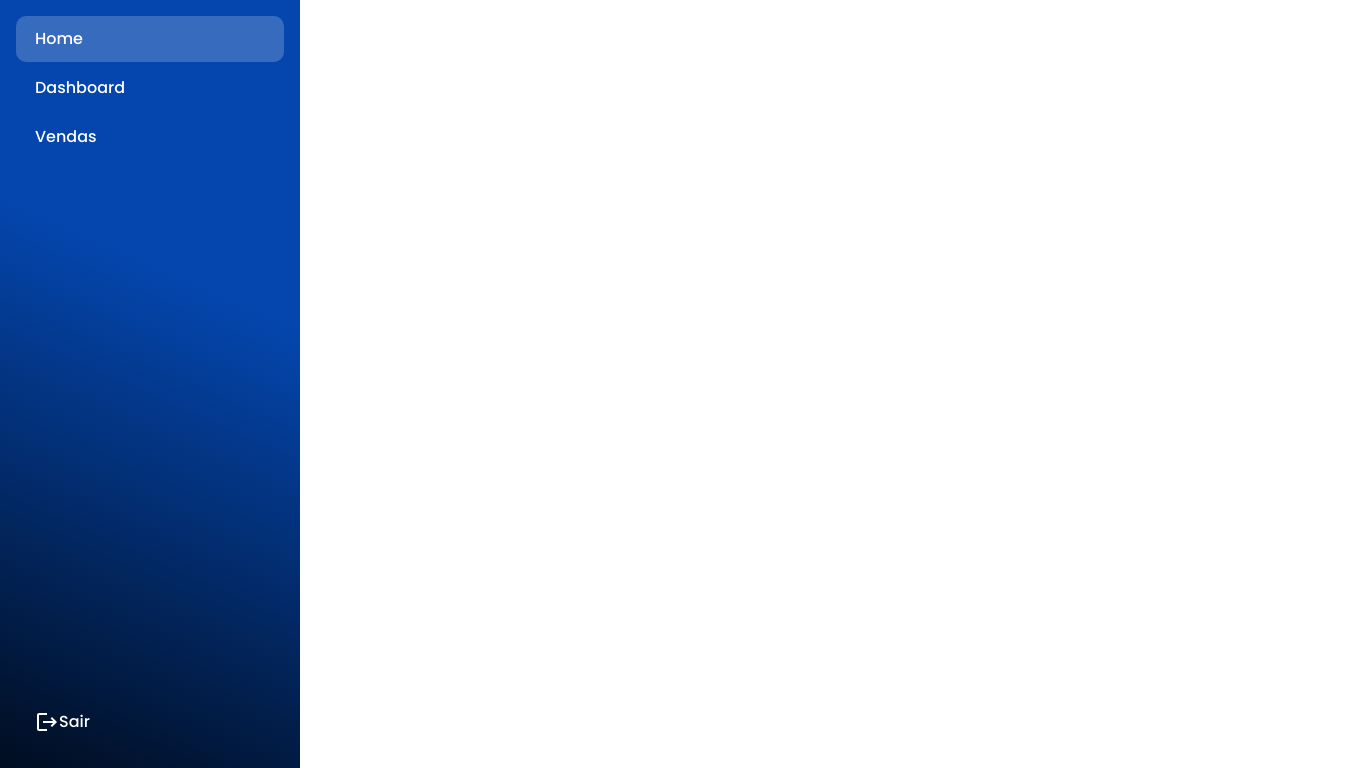
Test: SideBar module › should be render "Cancel" on open modal
Click the text "Sair".
click(62, 722)  # box [35,710,90,734]
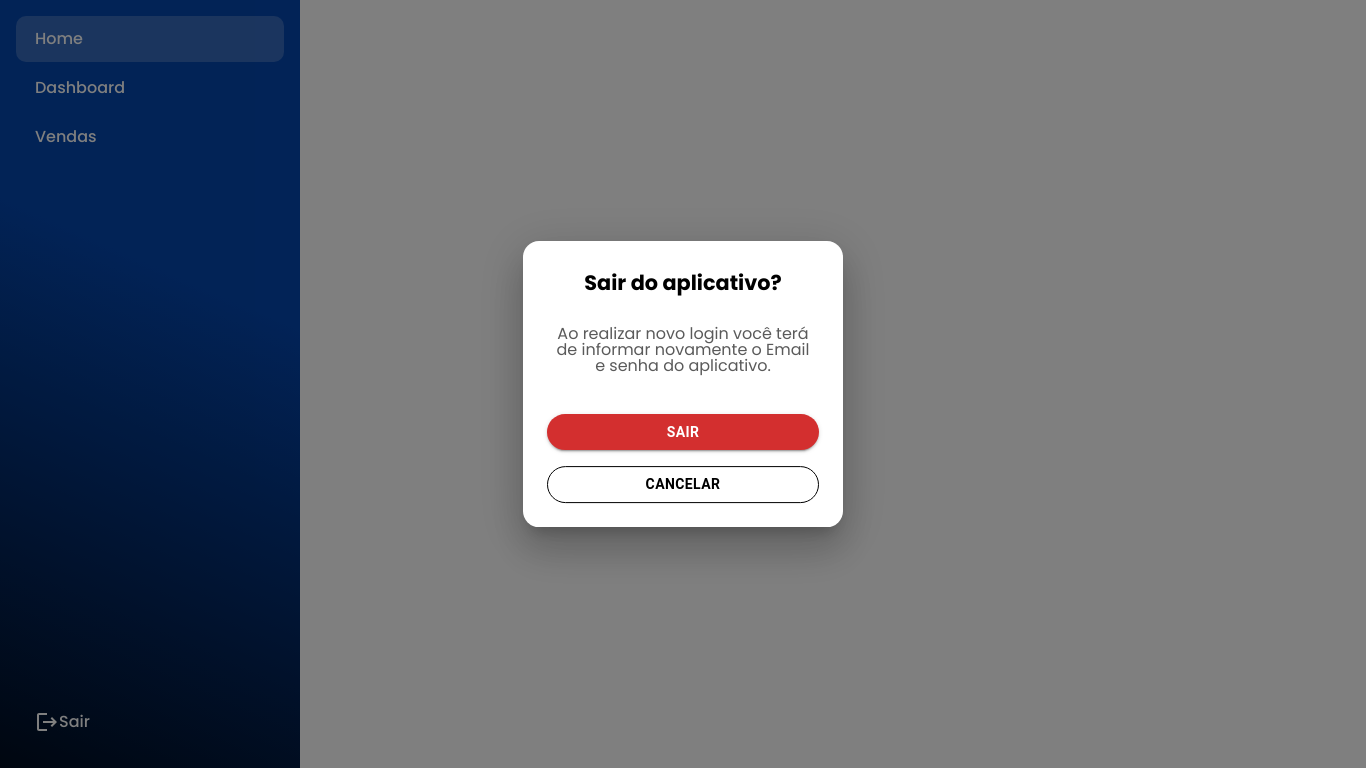
Expected: the heading "Sair do aplicativo?" is shown, [584,265,782,302]
Click the button "Cancelar".
click(683, 485)  # box [547,466,819,503]
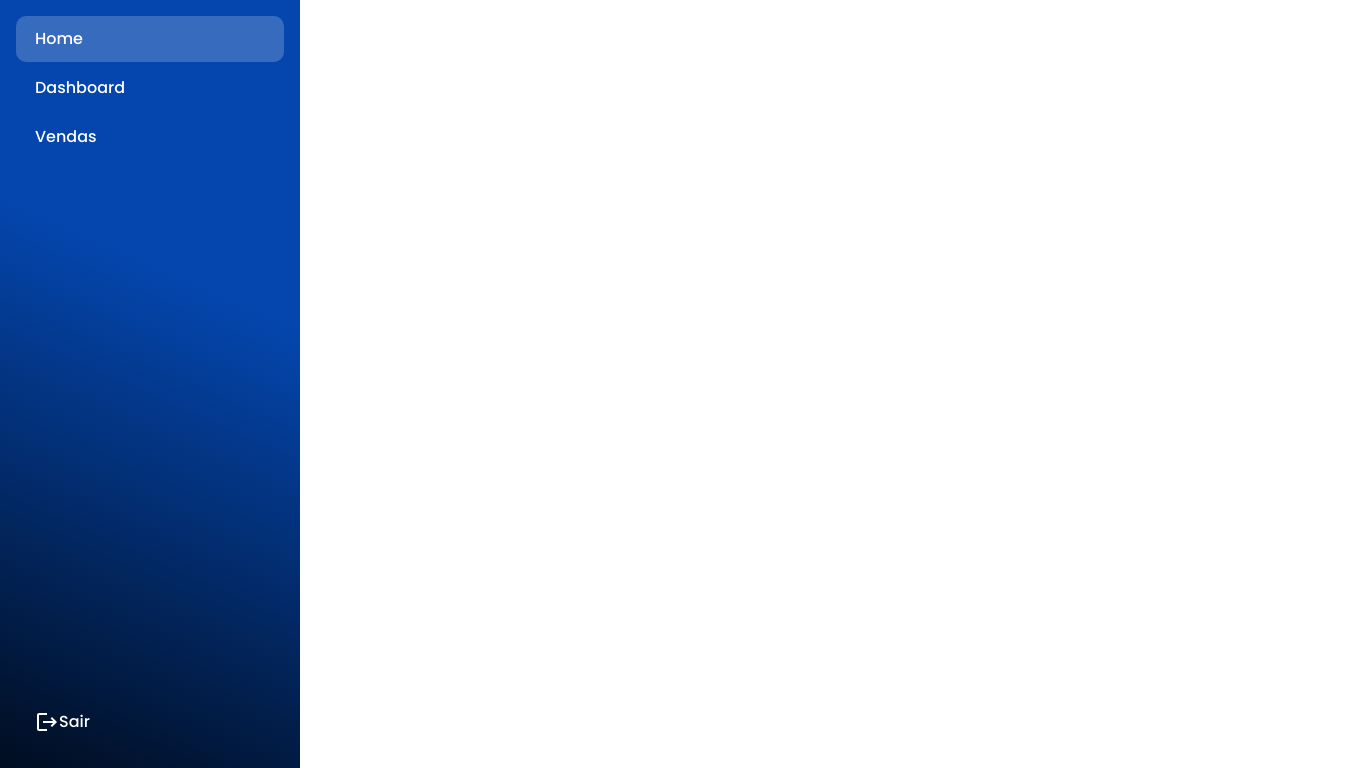
Expected: the heading "Sair do aplicativo?" is gone
